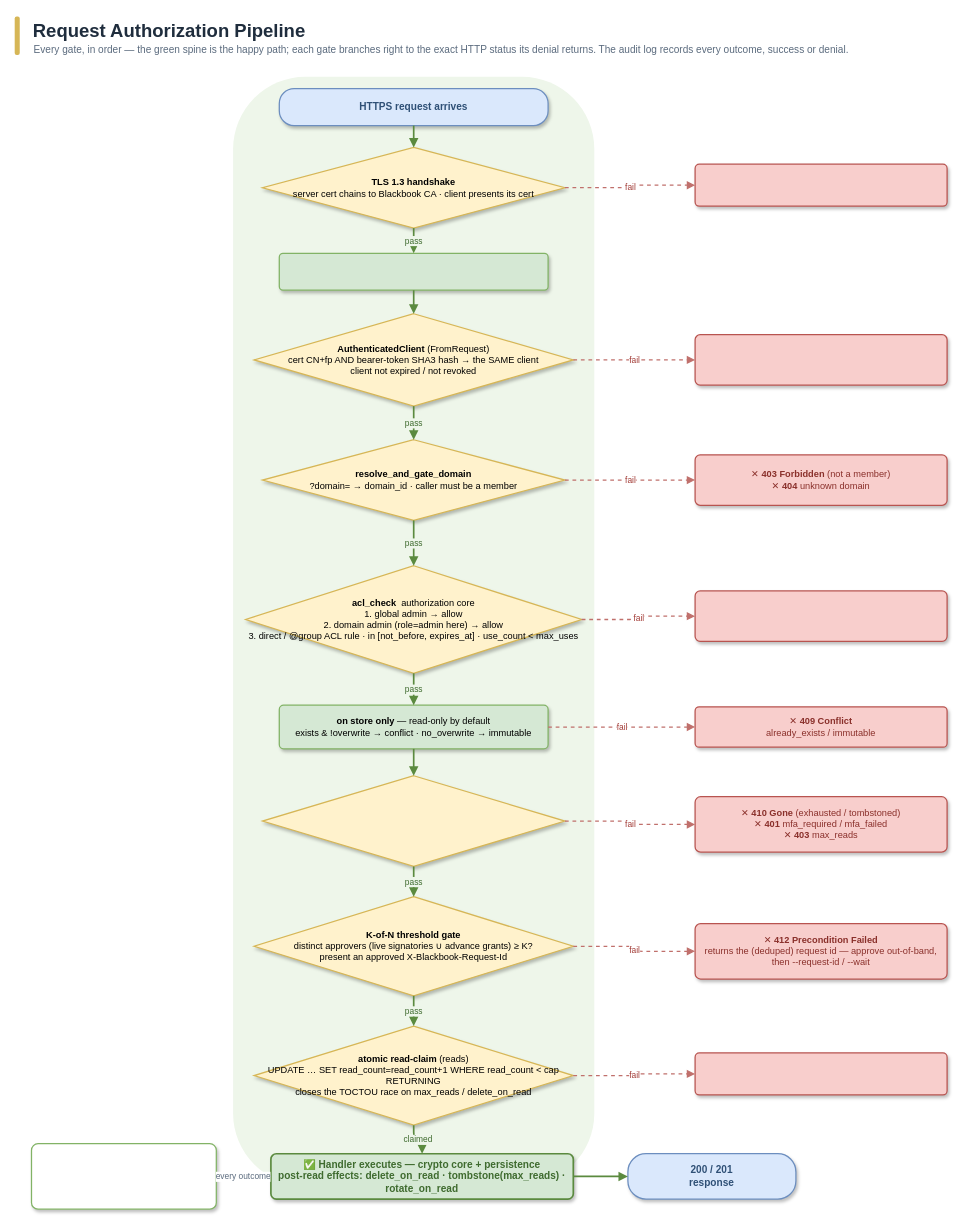
Some shapes in this 967 by 1230 pixel diagram are drawn without their labels. The shapes that lost their labels are listed below. From the top down, each one's centre as x and y in pixels, then its label:
the point at 821,186: ✕ TLS alert connection refused
the point at 414,272: on_connect capture client-cert CN + SHA3-256 fingerprint
the point at 821,360: ✕ 401 Unauthorized missing/mismatched factor, expired, or revoked
the point at 821,617: ✕ 403 Forbidden no admin path and no in-window unspent rule
the point at 414,822: resource flags / lifecycle tombstoned? · mfa_required? · max_reads reached?
the point at 821,1075: ✕ 403 max_reads lost the claim race
the point at 124,1177: Audit append keyed SHA3-256 chain records every outcome — successes AND denials
